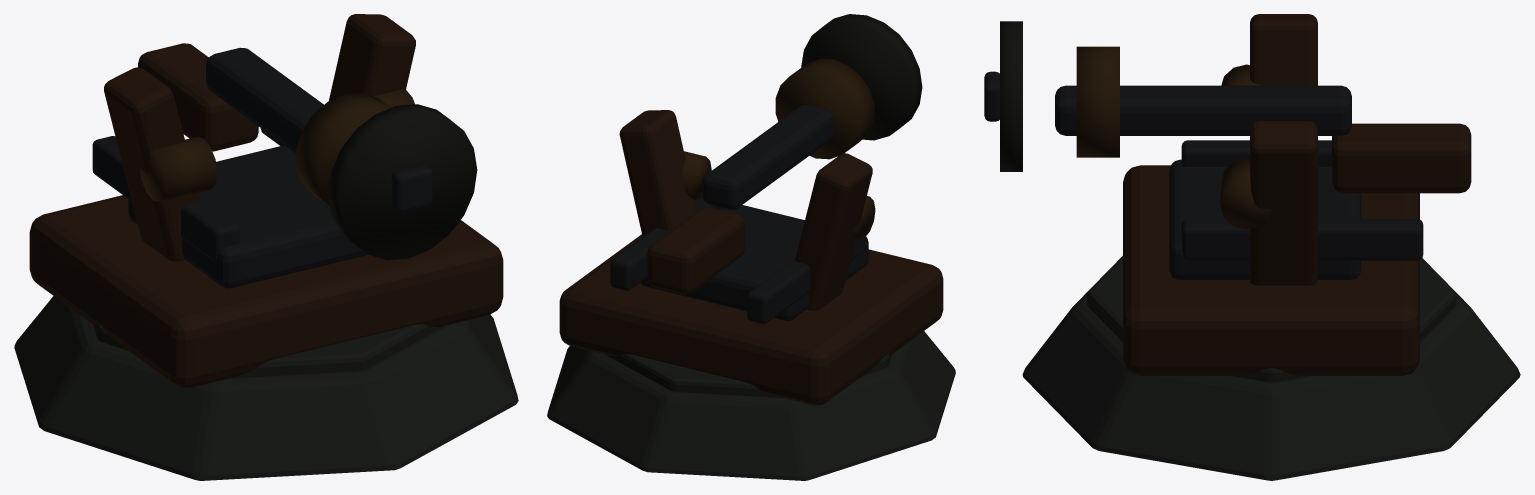
The model's file is TowerBounce1_pose.obj.
The picture shows the model from 3 angles, left to right: view 1: azimuth 30°, elevation 25°; view 2: azimuth 150°, elevation 25°; view 3: azimuth 270°, elevation 25°; orthographic projection. The views are drawn at different scales.
Visible parts, largest first — view 1: cut_stone_socket_lower_course, heavy_oak_table, throwing_disc, iron_swivel, oak_throwing_cheek, iron_throw_arm, counterweight_beam, oak_throwing_cheek.001, cut_stone_socket_upper_course, bronze_sling_drum, iron_stabiliser, bronze_pivot_pin (+1 smaller); view 2: cut_stone_socket_lower_course, heavy_oak_table, throwing_disc, oak_throwing_cheek, oak_throwing_cheek.001, iron_throw_arm, iron_swivel, counterweight_beam, bronze_sling_drum, cut_stone_socket_upper_course, iron_stabiliser, iron_stabiliser.001 (+2 smaller); view 3: cut_stone_socket_lower_course, heavy_oak_table, iron_throw_arm, oak_throwing_cheek.001, counterweight_beam, iron_swivel, iron_stabiliser.001, bronze_sling_drum, oak_throwing_cheek, cut_stone_socket_upper_course, throwing_disc, bronze_pivot_pin.001 (+2 smaller).
Part boxes in pixels (x1,y1,x2,y2): cut_stone_socket_lower_course: [14, 296, 518, 480]; heavy_oak_table: [29, 195, 503, 387]; throwing_disc: [327, 104, 477, 260]; iron_swivel: [128, 145, 367, 288]; oak_throwing_cheek: [104, 67, 199, 261]; iron_throw_arm: [206, 47, 323, 153]; counterweight_beam: [138, 43, 258, 151]; oak_throwing_cheek.001: [329, 14, 415, 100]; cut_stone_socket_upper_course: [93, 324, 445, 378]; bronze_sling_drum: [296, 92, 390, 206]; iron_stabiliser: [92, 136, 239, 262]; bronze_pivot_pin: [140, 137, 217, 202]; cut_stone_socket_lower_course: [547, 331, 955, 480]; heavy_oak_table: [559, 234, 943, 405]; throwing_disc: [801, 14, 922, 140]; oak_throwing_cheek: [795, 153, 872, 310]; oak_throwing_cheek.001: [619, 110, 697, 236]; iron_throw_arm: [702, 105, 833, 209]; iron_swivel: [640, 205, 868, 320]; counterweight_beam: [647, 207, 745, 294]; bronze_sling_drum: [775, 58, 874, 159]; cut_stone_socket_upper_course: [605, 353, 891, 397]; iron_stabiliser: [747, 236, 866, 323]; iron_stabiliser.001: [610, 196, 724, 290]; cut_stone_socket_lower_course: [1022, 256, 1520, 480]; heavy_oak_table: [1123, 165, 1419, 375]; iron_throw_arm: [1055, 85, 1351, 135]; oak_throwing_cheek.001: [1250, 121, 1317, 285]; counterweight_beam: [1332, 123, 1471, 193]; iron_swivel: [1169, 159, 1361, 279]; iron_stabiliser.001: [1181, 219, 1423, 260]; bronze_sling_drum: [1076, 46, 1119, 157]; oak_throwing_cheek: [1250, 14, 1317, 85]; cut_stone_socket_upper_course: [1087, 256, 1456, 382]; throwing_disc: [1000, 21, 1022, 171]; bronze_pivot_pin.001: [1220, 158, 1271, 229].
Size of the model in its own units: 1.61 by 1.25 by 1.73.
